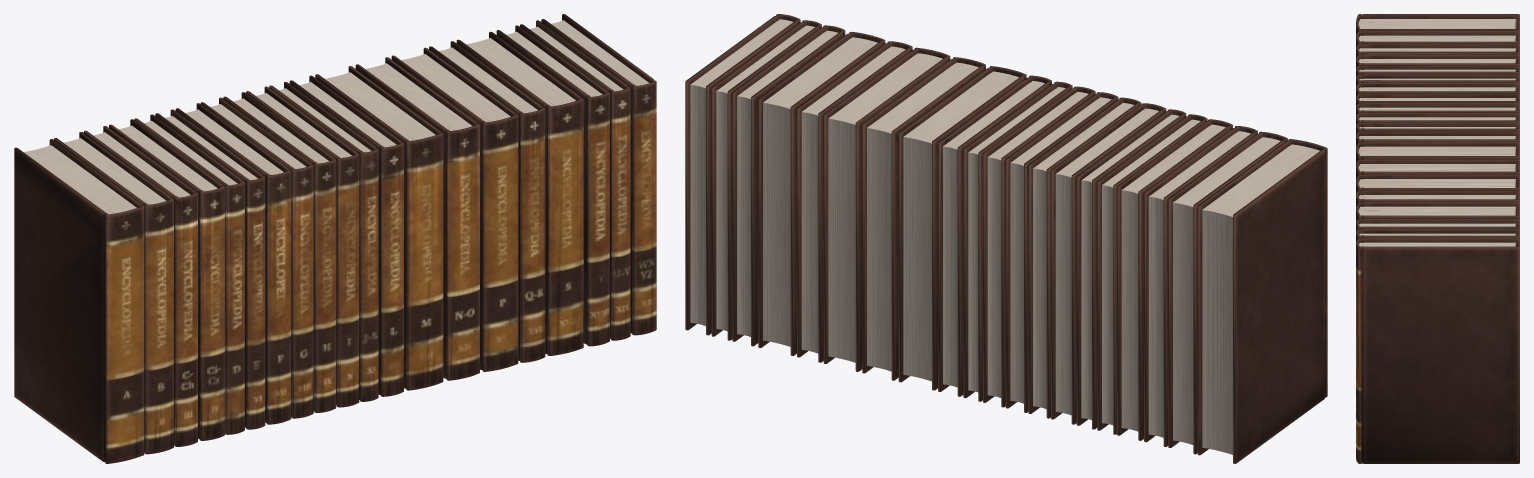
The model's file is book_encyclopedia_set_01.gltf.
The picture shows the model from 3 angles, left to right: view 1: azimuth 30°, elevation 25°; view 2: azimuth 150°, elevation 25°; view 3: azimuth 270°, elevation 25°; orthographic projection. The views are drawn at different scales.
Visible parts, largest first — view 1: book_encyclopedia_set_01_book01, book_encyclopedia_set_01_book13, book_encyclopedia_set_01_book15, book_encyclopedia_set_01_book17, book_encyclopedia_set_01_book14, book_encyclopedia_set_01_book02, book_encyclopedia_set_01_book16, book_encyclopedia_set_01_book04, book_encyclopedia_set_01_book18, book_encyclopedia_set_01_book20, book_encyclopedia_set_01_book07, book_encyclopedia_set_01_book12 (+8 smaller); view 2: book_encyclopedia_set_01_book01, book_encyclopedia_set_01_book13, book_encyclopedia_set_01_book15, book_encyclopedia_set_01_book17, book_encyclopedia_set_01_book14, book_encyclopedia_set_01_book02, book_encyclopedia_set_01_book04, book_encyclopedia_set_01_book16, book_encyclopedia_set_01_book18, book_encyclopedia_set_01_book20, book_encyclopedia_set_01_book07, book_encyclopedia_set_01_book12 (+8 smaller); view 3: book_encyclopedia_set_01_book20, book_encyclopedia_set_01_book13, book_encyclopedia_set_01_book01, book_encyclopedia_set_01_book17, book_encyclopedia_set_01_book15, book_encyclopedia_set_01_book14, book_encyclopedia_set_01_book02, book_encyclopedia_set_01_book16, book_encyclopedia_set_01_book03, book_encyclopedia_set_01_book12, book_encyclopedia_set_01_book04, book_encyclopedia_set_01_book07 (+8 smaller).
Part boxes in pixels (bbox=[...]): book_encyclopedia_set_01_book01: bbox=[14, 139, 144, 463]; book_encyclopedia_set_01_book13: bbox=[315, 66, 443, 390]; book_encyclopedia_set_01_book15: bbox=[391, 47, 518, 371]; book_encyclopedia_set_01_book17: bbox=[456, 31, 583, 355]; book_encyclopedia_set_01_book14: bbox=[355, 57, 479, 380]; book_encyclopedia_set_01_book02: bbox=[54, 132, 173, 454]; book_encyclopedia_set_01_book16: bbox=[429, 41, 545, 362]; book_encyclopedia_set_01_book04: bbox=[109, 119, 224, 440]; book_encyclopedia_set_01_book18: bbox=[496, 25, 609, 346]; book_encyclopedia_set_01_book20: bbox=[541, 14, 656, 335]; book_encyclopedia_set_01_book07: bbox=[175, 103, 291, 424]; book_encyclopedia_set_01_book12: bbox=[289, 75, 403, 396]; book_encyclopedia_set_01_book01: bbox=[1197, 139, 1327, 463]; book_encyclopedia_set_01_book13: bbox=[898, 66, 1026, 390]; book_encyclopedia_set_01_book15: bbox=[823, 47, 950, 371]; book_encyclopedia_set_01_book17: bbox=[758, 32, 885, 355]; book_encyclopedia_set_01_book14: bbox=[862, 57, 985, 380]; book_encyclopedia_set_01_book02: bbox=[1168, 131, 1287, 454]; book_encyclopedia_set_01_book04: bbox=[1117, 119, 1232, 440]; book_encyclopedia_set_01_book16: bbox=[797, 41, 912, 362]; book_encyclopedia_set_01_book18: bbox=[732, 25, 845, 346]; book_encyclopedia_set_01_book20: bbox=[685, 14, 800, 335]; book_encyclopedia_set_01_book07: bbox=[1051, 103, 1166, 424]; book_encyclopedia_set_01_book12: bbox=[938, 75, 1051, 396]; book_encyclopedia_set_01_book20: bbox=[1356, 238, 1519, 463]; book_encyclopedia_set_01_book13: bbox=[1356, 142, 1519, 165]; book_encyclopedia_set_01_book01: bbox=[1356, 14, 1519, 35]; book_encyclopedia_set_01_book17: bbox=[1356, 202, 1519, 221]; book_encyclopedia_set_01_book15: bbox=[1356, 174, 1519, 194]; book_encyclopedia_set_01_book14: bbox=[1356, 159, 1519, 180]; book_encyclopedia_set_01_book02: bbox=[1356, 30, 1519, 47]; book_encyclopedia_set_01_book16: bbox=[1356, 190, 1519, 222]; book_encyclopedia_set_01_book03: bbox=[1356, 43, 1519, 58]; book_encyclopedia_set_01_book12: bbox=[1356, 131, 1519, 149]; book_encyclopedia_set_01_book04: bbox=[1356, 54, 1519, 69]; book_encyclopedia_set_01_book07: bbox=[1356, 82, 1519, 96].
Bounding box in the file's own units: 0.5513 × 0.2374 × 0.1631.
Materials: 2 (2 with a texture image).
